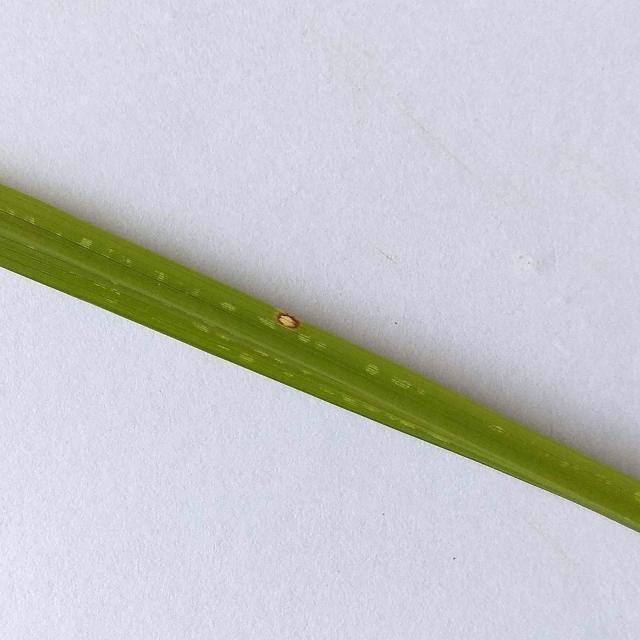Leaf_Blast: (251, 281, 348, 359)
